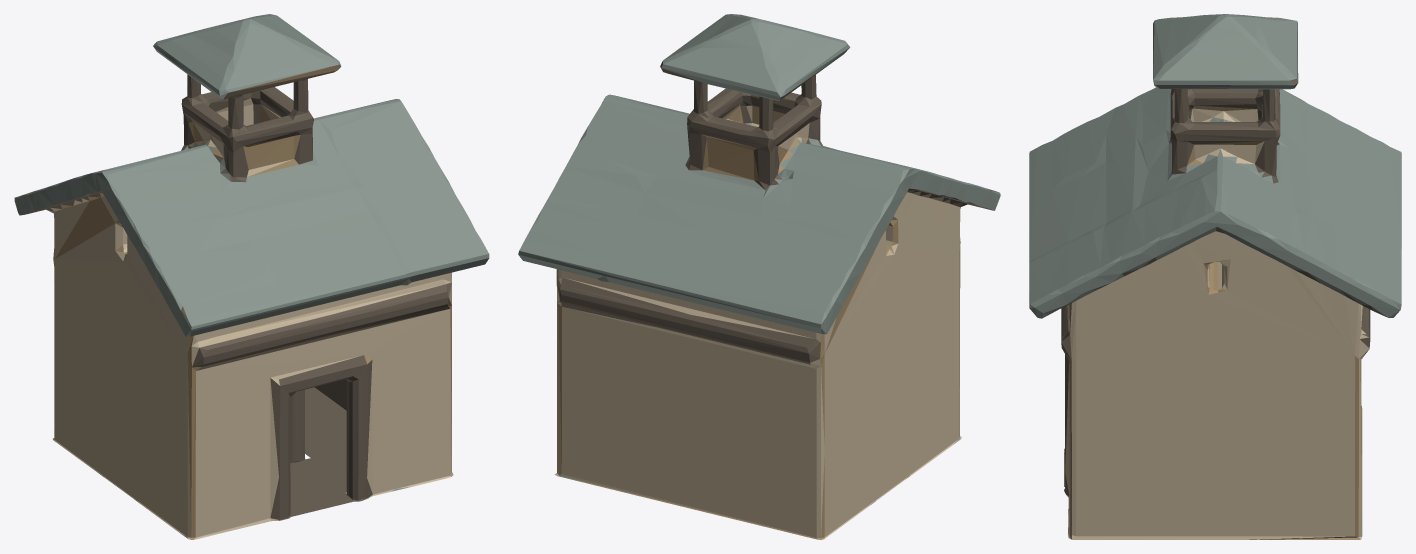
The picture shows the model from 3 angles, left to right: view 1: azimuth 30°, elevation 25°; view 2: azimuth 150°, elevation 25°; view 3: azimuth 270°, elevation 25°; orthographic projection. The views are drawn at different scales.
Parts seen in each view (by area): view 1: geometry_0; view 2: geometry_0; view 3: geometry_0.
Boxes of the visible parts, x1,y1,x2,y2 form: geometry_0: [14, 14, 489, 539]; geometry_0: [518, 14, 1000, 539]; geometry_0: [1029, 14, 1401, 539].
Size of the model in its own units: 0.6802 by 0.9384 by 0.6947.
